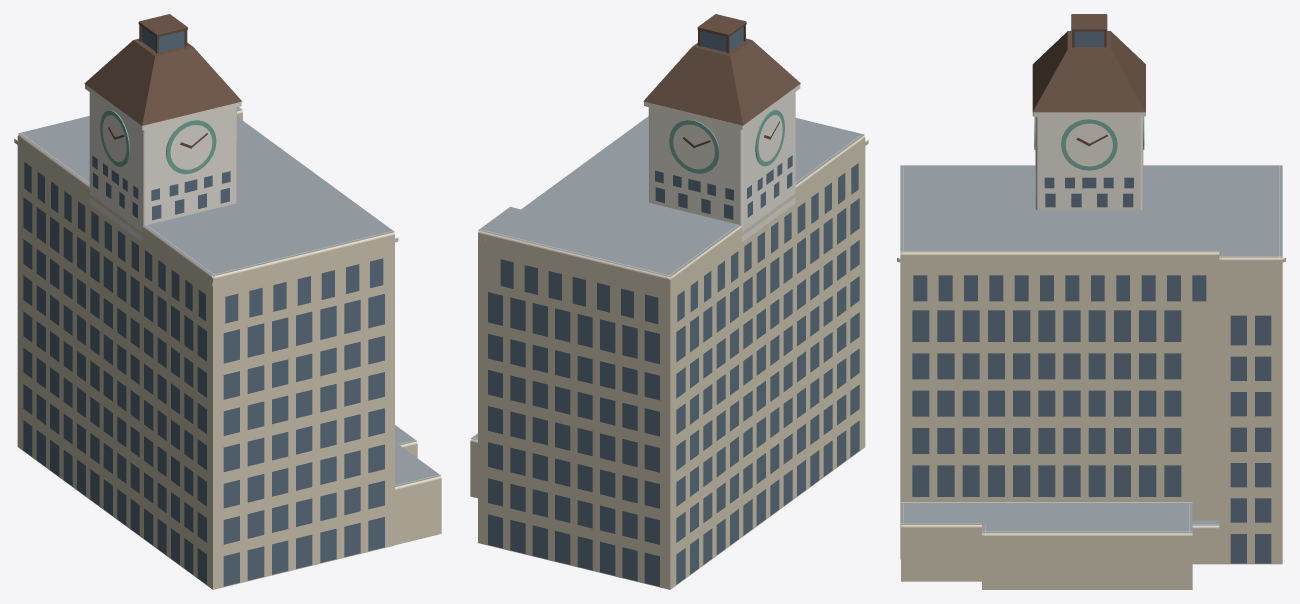
Rendered from nyc-clock-tower-building.glb.
3 views of the same model, side by side, from view 1: azimuth 30°, elevation 25°; view 2: azimuth 150°, elevation 25°; view 3: azimuth 270°, elevation 25° (orthographic). The views are drawn at different scales.
Visible parts, largest first — view 1: Clocktower Building; view 2: Clocktower Building; view 3: Clocktower Building.
Part boxes in pixels (bbox=[...]): Clocktower Building: bbox=[14, 14, 441, 589]; Clocktower Building: bbox=[470, 14, 868, 589]; Clocktower Building: bbox=[897, 14, 1285, 589].
Bounding box in the file's own units: 45.8 × 84.8 × 63.1.
